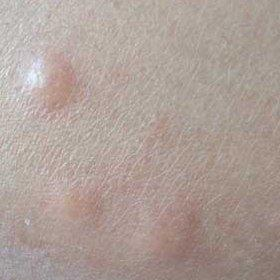Fleas: (15, 47, 74, 101), (162, 207, 204, 265), (61, 180, 104, 229)
